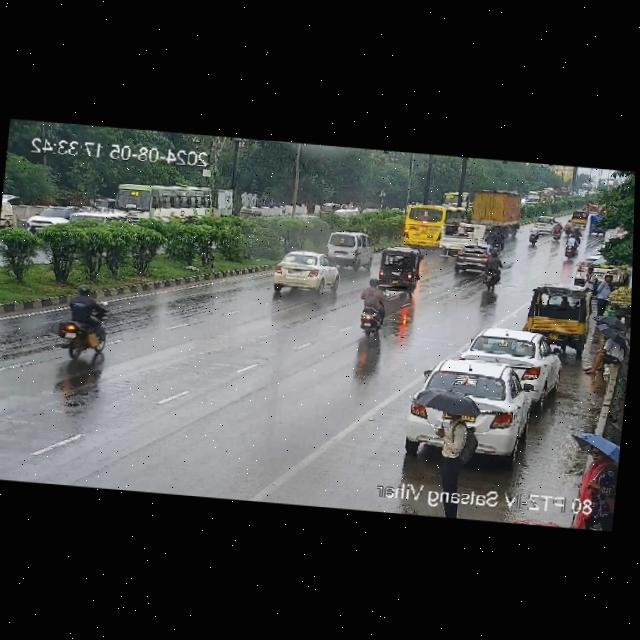bus: (107, 180, 211, 227), (401, 199, 469, 249)
car: (416, 358, 536, 433), (462, 327, 559, 392), (522, 281, 594, 340), (263, 247, 338, 297), (375, 247, 426, 291), (321, 227, 370, 265), (25, 201, 76, 231), (453, 244, 496, 274), (534, 211, 557, 234)
motorcycle: (52, 285, 114, 362), (350, 277, 387, 338), (483, 247, 505, 293), (524, 223, 542, 245), (563, 233, 578, 258), (550, 221, 562, 238), (565, 218, 574, 234), (573, 226, 581, 240)
person: (422, 391, 481, 458), (573, 444, 618, 531), (579, 328, 629, 379), (587, 270, 618, 316), (583, 265, 600, 288)
truck: (468, 184, 529, 234), (440, 219, 487, 251)
